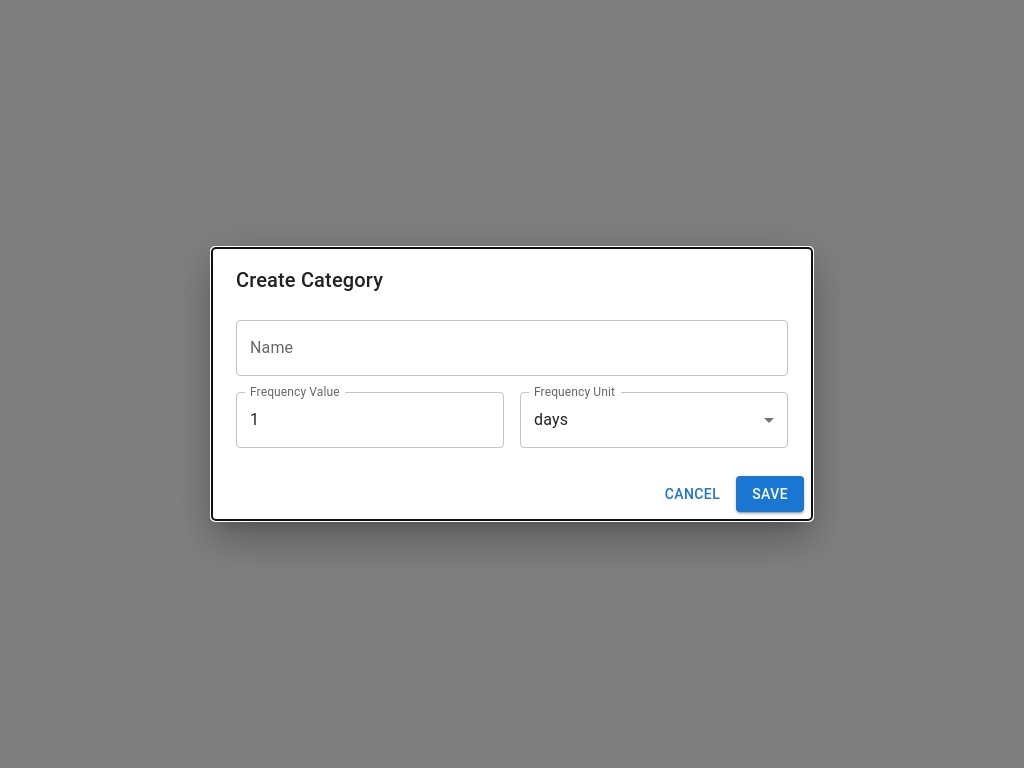
CategoryFormModal › should show validation error when frequency value is invalid
In the field labelled "Name": [512, 348] box [236, 320, 788, 376], type "Family"
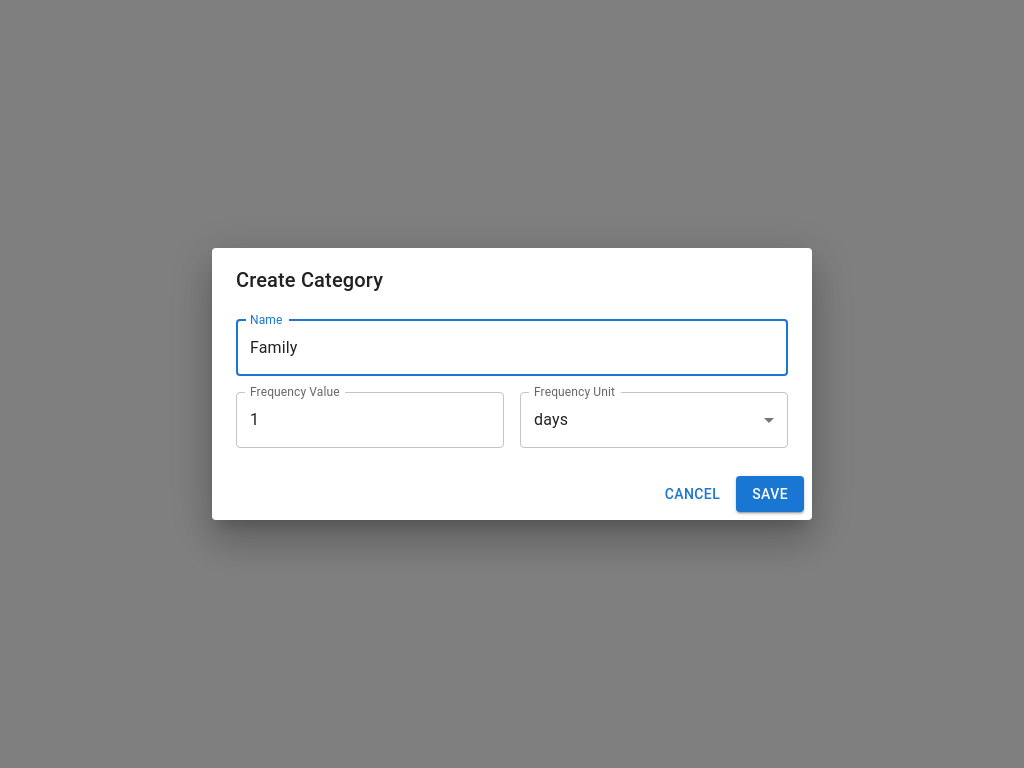
In the number field labelled "Frequency Value": [370, 420] box [236, 392, 504, 448], type "000"
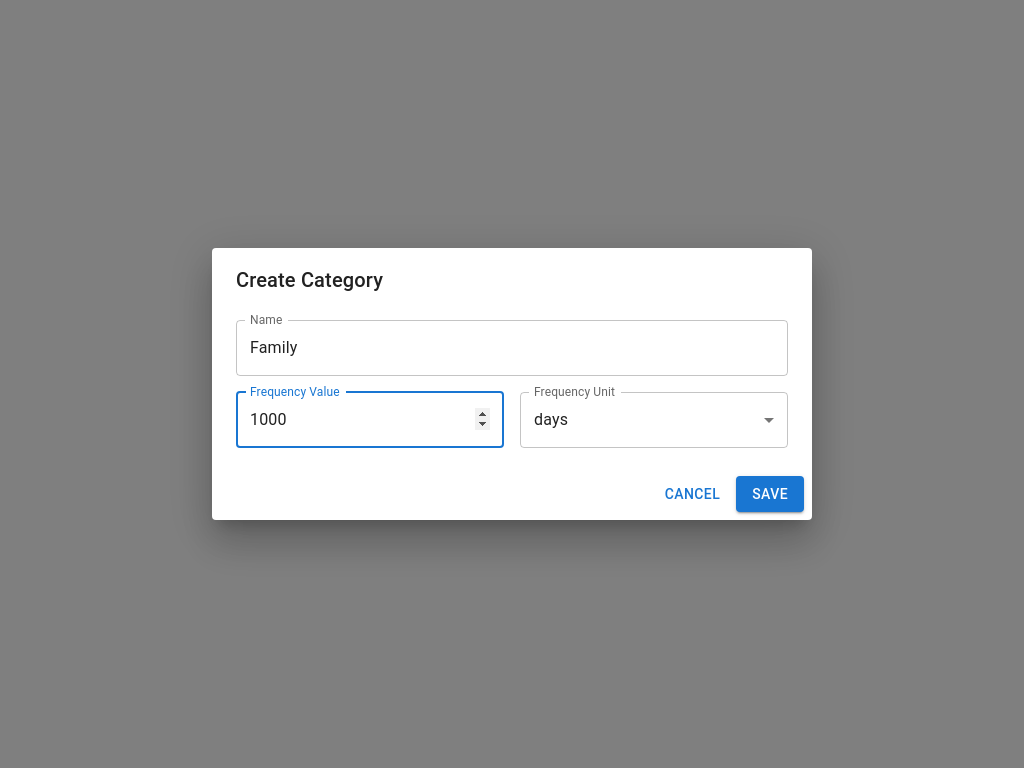
Click the button "Save": [770, 494] box [736, 476, 804, 512]
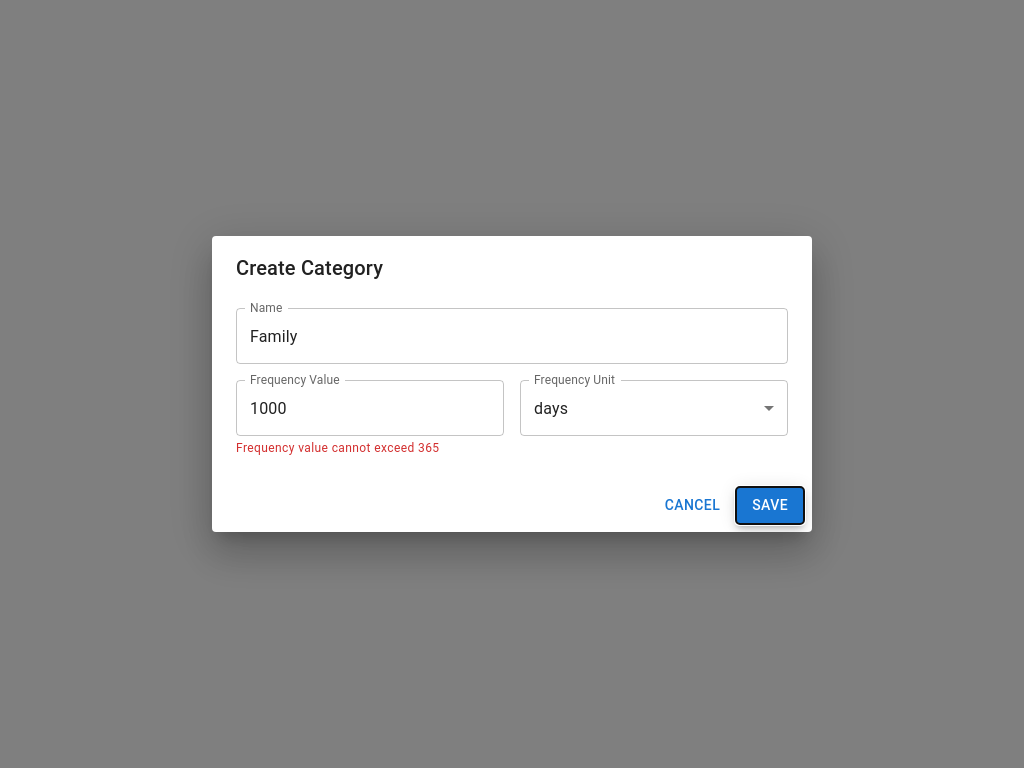
Expected: the text "Frequency value cannot exceed 365" is shown, [236, 441, 440, 455]
